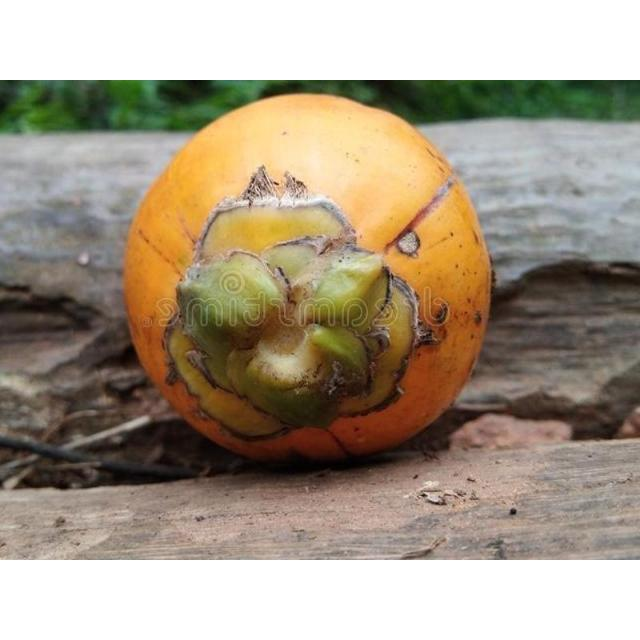good: (123, 93, 494, 465)
